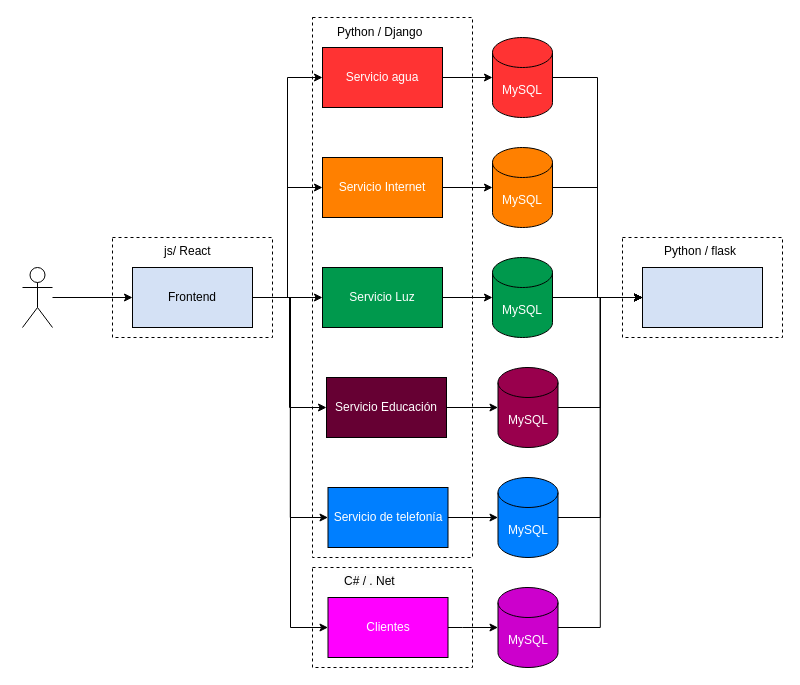
Image size: 800x685. Some labels were removed from this diagram. Here are the shapes that lost their labels. From the top down, the centre of each, then its label:
At (37,297): "Usuario".
At (702,297): "Health Check API".
